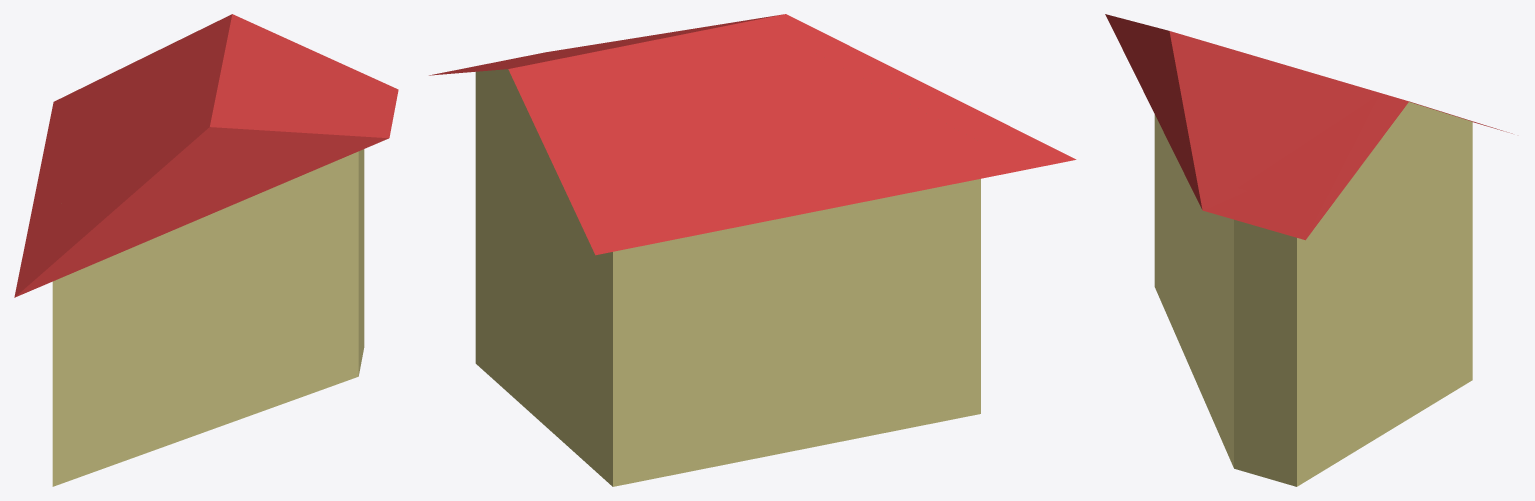
The picture shows the model from 3 angles, left to right: view 1: azimuth 30°, elevation 25°; view 2: azimuth 150°, elevation 25°; view 3: azimuth 270°, elevation 25°; orthographic projection. The views are drawn at different scales.
Bounding box in the file's own units: 12.93 × 8.98 × 8.17.
